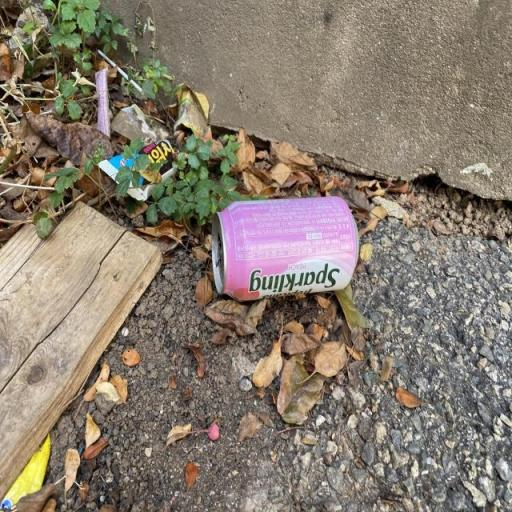metal: (196, 174, 372, 332)
